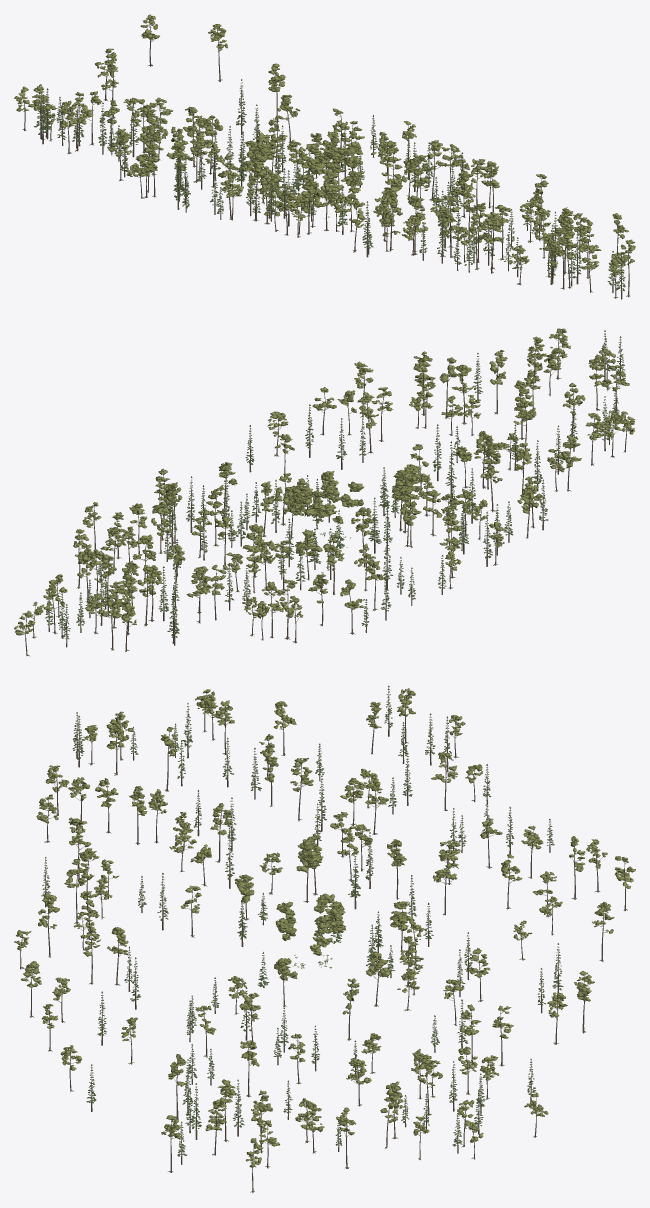
The model's file is felsmulde-gruen.glb.
3 renders of one model, top to bottom at view 1: azimuth 30°, elevation 25°; view 2: azimuth 150°, elevation 25°; view 3: azimuth 270°, elevation 25°, orthographic. The views are drawn at different scales.
Visible parts, largest first — view 1: WaldLaub, WaldHolz, WaldNadeln, Held1_Krone, Held0_Krone; view 2: WaldLaub, WaldHolz, WaldNadeln; view 3: WaldLaub, WaldHolz, WaldNadeln.
Part boxes in pixels (left/top/right/bottom): WaldLaub: left=14, top=14, right=635, bottom=277; WaldHolz: left=21, top=20, right=630, bottom=299; WaldNadeln: left=34, top=79, right=625, bottom=291; Held1_Krone: left=322, top=131, right=346, bottom=163; Held0_Krone: left=297, top=144, right=324, bottom=180; WaldLaub: left=14, top=328, right=635, bottom=635; WaldHolz: left=21, top=333, right=628, bottom=656; WaldNadeln: left=45, top=330, right=624, bottom=639; WaldLaub: left=14, top=688, right=635, bottom=1167; WaldHolz: left=20, top=688, right=629, bottom=1193; WaldNadeln: left=41, top=685, right=563, bottom=1156.
Bounding box in the file's own units: 295 × 142 × 297.
